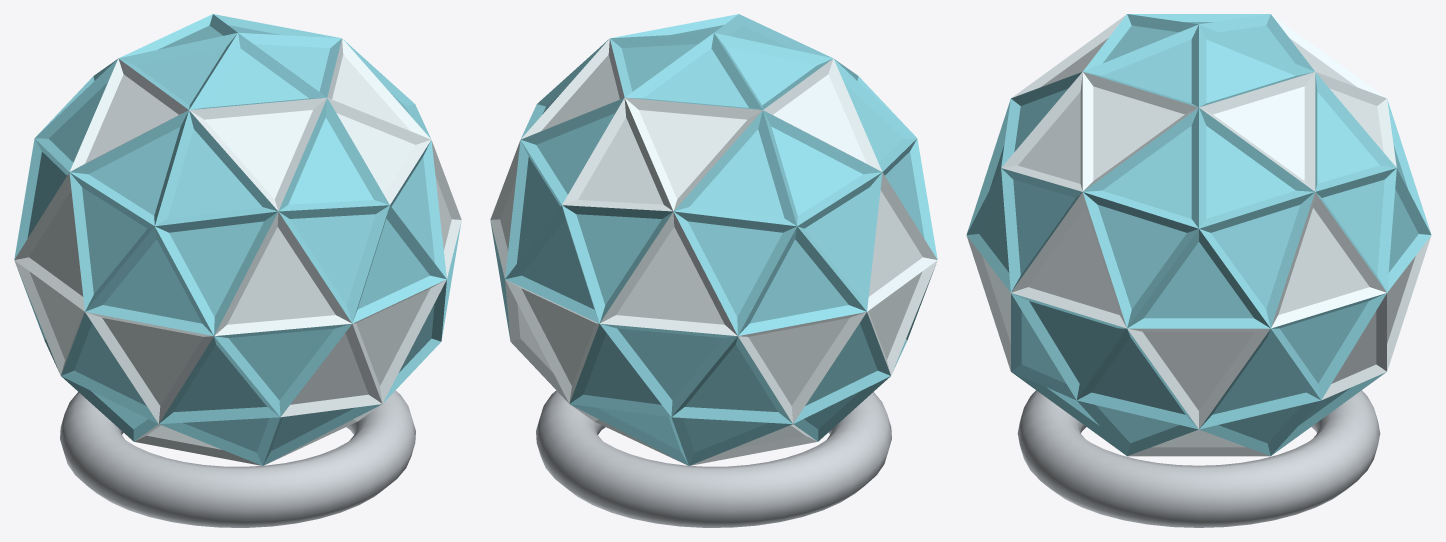
File: capside.glb
3 renders of one model, left to right at view 1: azimuth 30°, elevation 25°; view 2: azimuth 150°, elevation 25°; view 3: azimuth 270°, elevation 25°, orthographic.
Visible parts, largest first — view 1: geodesica, soporte; view 2: geodesica, soporte; view 3: geodesica, soporte.
Boxes of the visible parts, bbox=[...] form: geodesica: bbox=[14, 14, 461, 465]; soporte: bbox=[60, 390, 415, 527]; geodesica: bbox=[490, 14, 937, 465]; soporte: bbox=[536, 390, 891, 527]; geodesica: bbox=[966, 14, 1431, 456]; soporte: bbox=[1017, 390, 1380, 527].
Size of the model in its own units: 0.0354 by 0.0386 by 0.0372.
